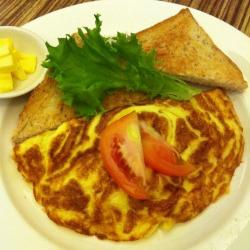bread: (105, 12, 249, 98)
omelette: (28, 107, 247, 234)
salad: (45, 32, 202, 117)
